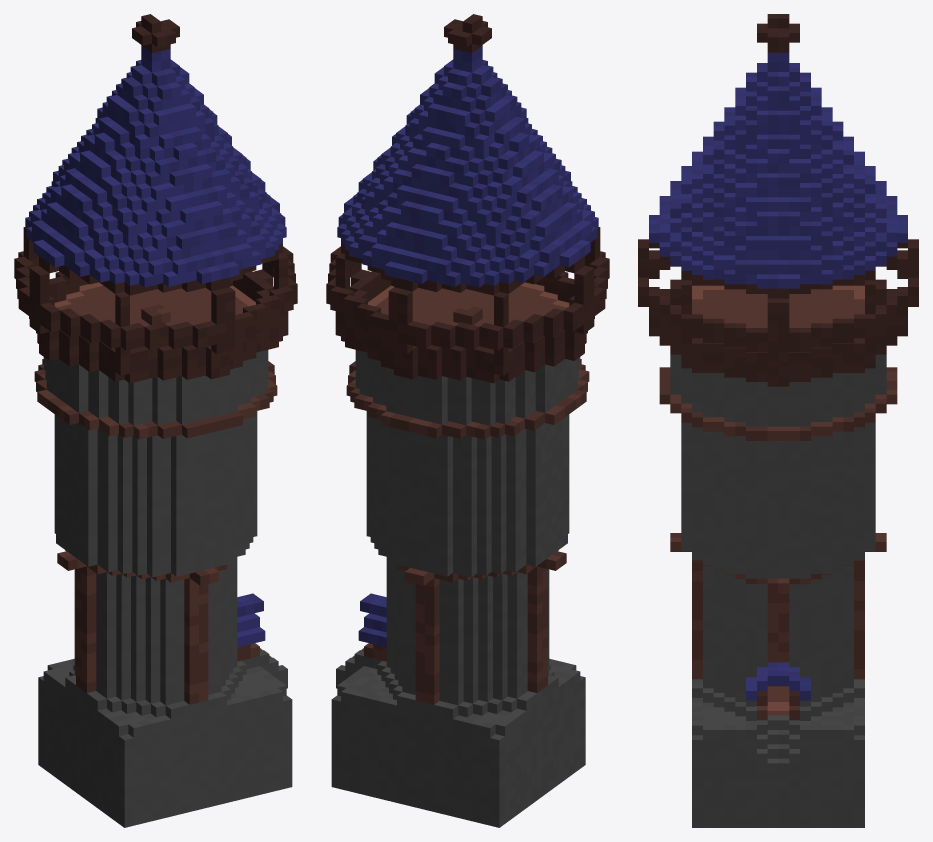
The model's file is mage_tower.obj.
The picture shows the model from 3 angles, left to right: view 1: azimuth 30°, elevation 25°; view 2: azimuth 150°, elevation 25°; view 3: azimuth 270°, elevation 25°; orthographic projection.
Bounding box in the file's own units: 2.6 × 7.8 × 2.6.
1 material, 1 textured.
